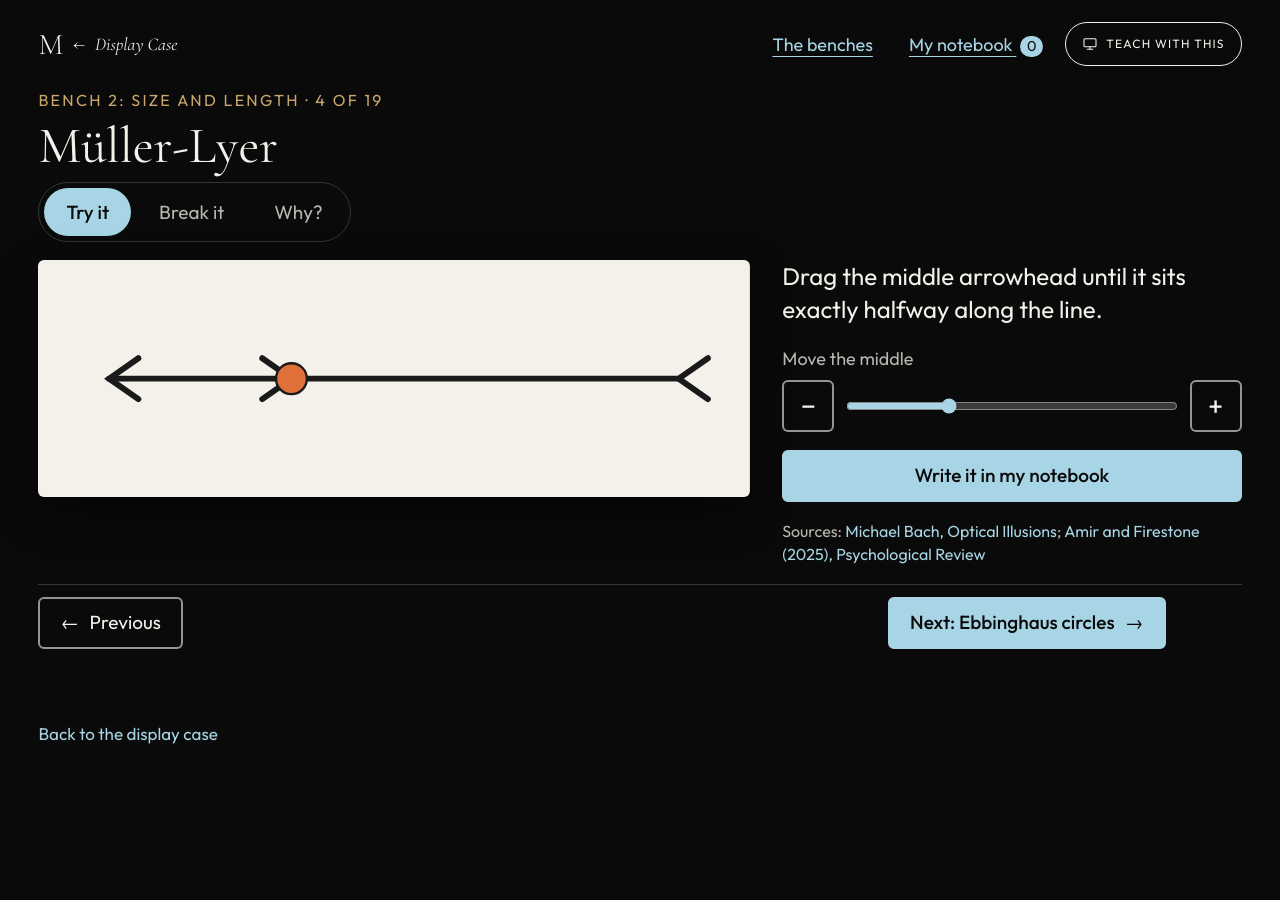
Scenario: a station: Try it, Break it, Why? › records the Müller-Lyer halfway test with fins, then without
Set the slider named "Move the middle" to "410" at (980, 406), box [846, 380, 1178, 432]
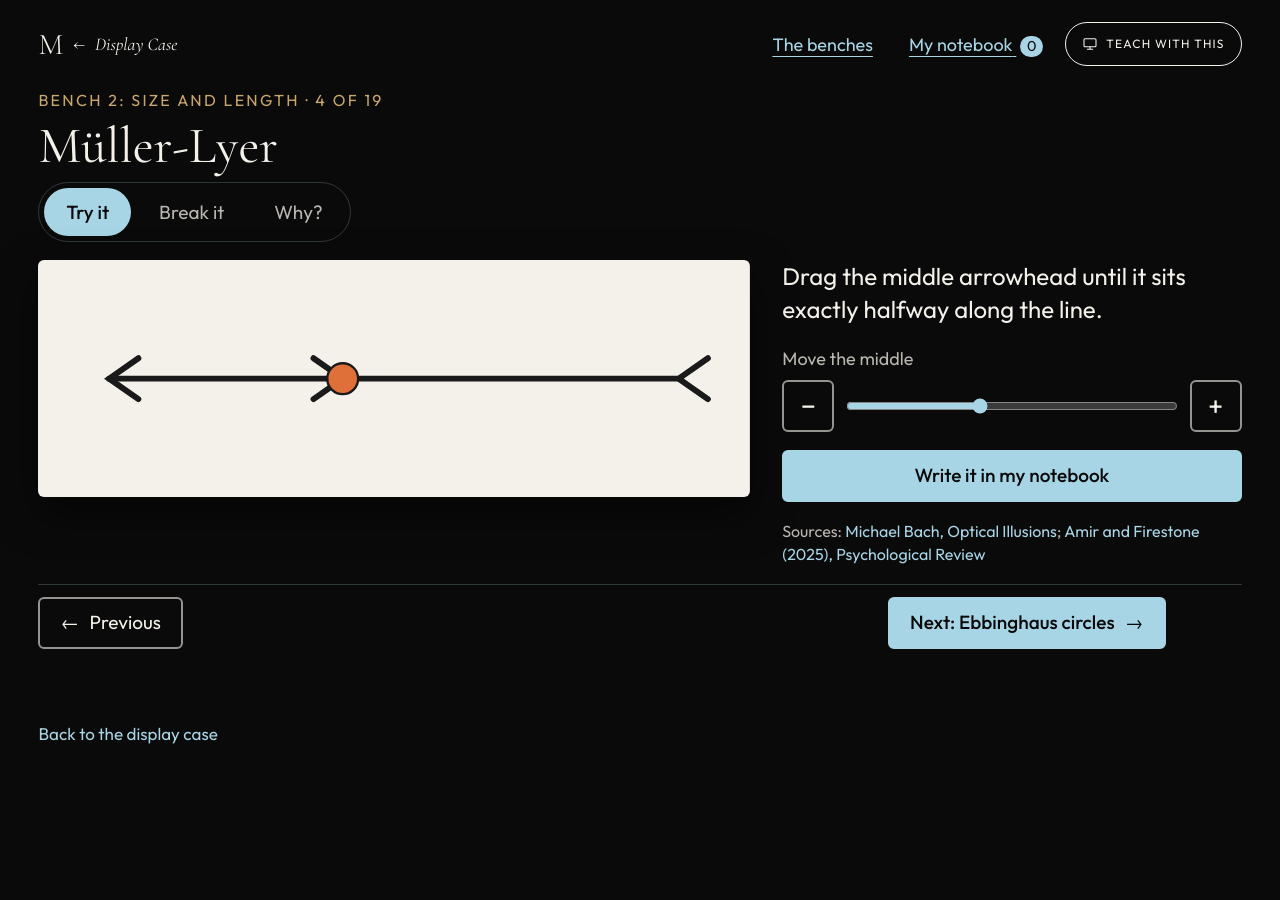
Click the button "Write it in my notebook" at (1012, 476), box [782, 450, 1242, 502]
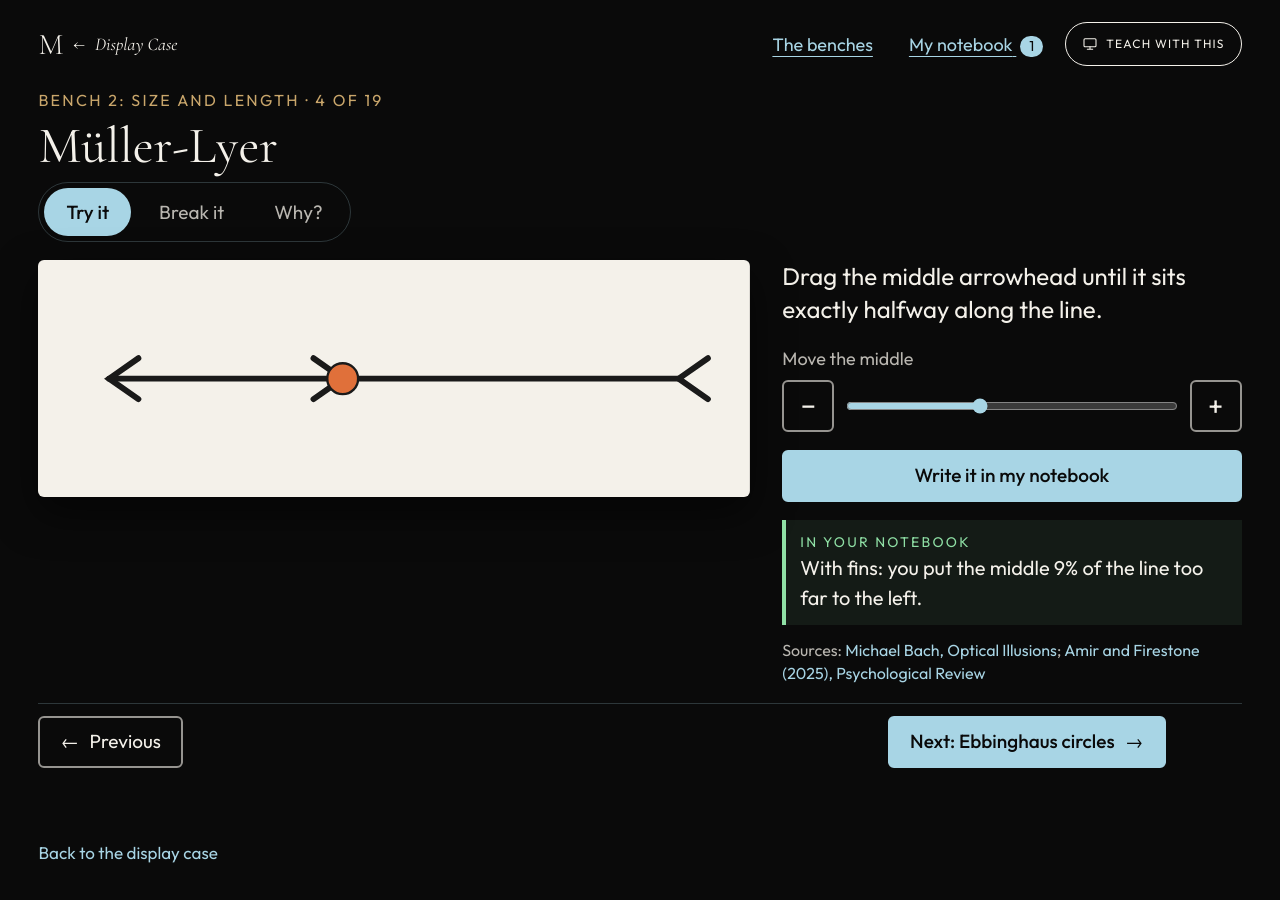
Click the tab "Break it" at (192, 212), box [137, 188, 246, 236]
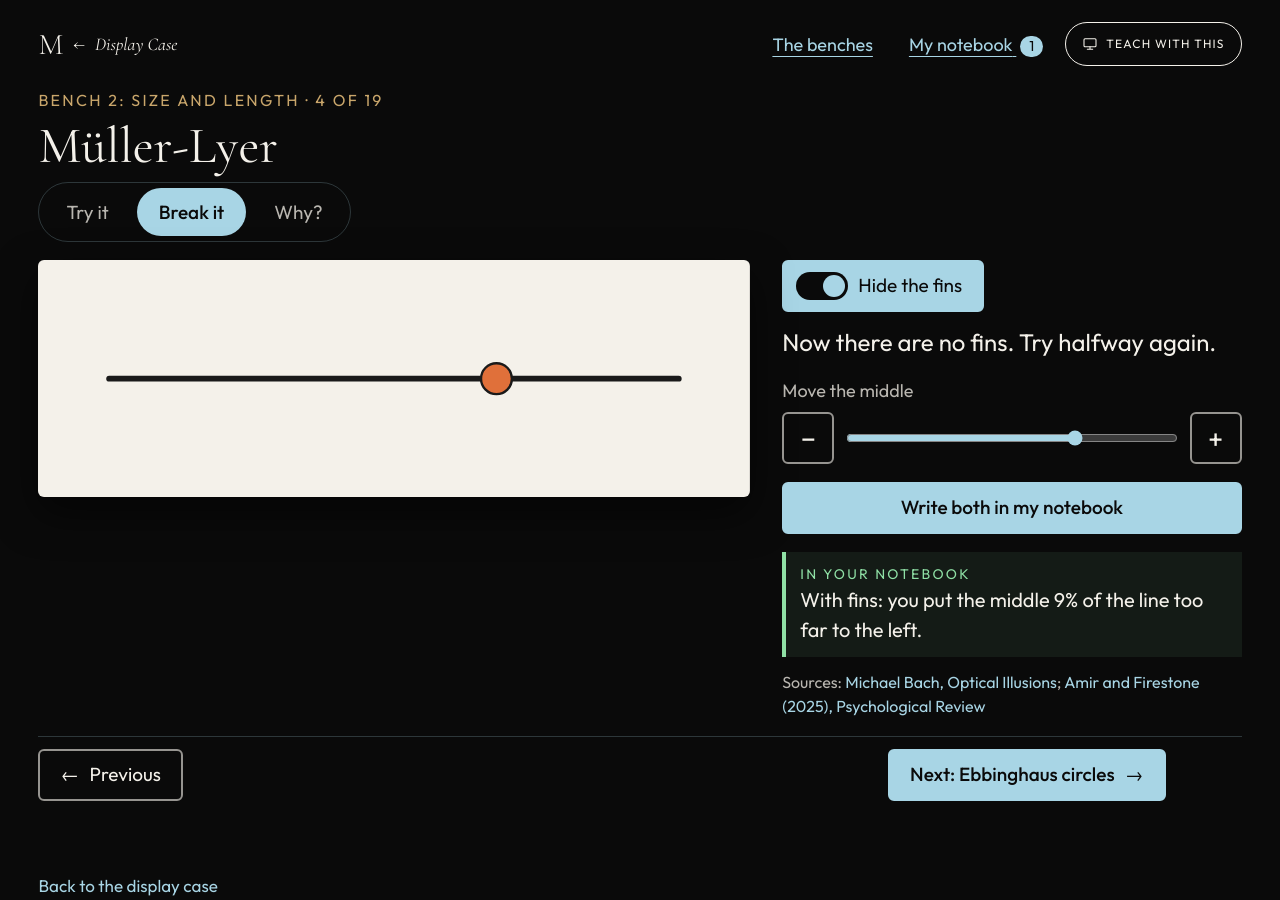
Set the slider named "Move the middle" to "500" at (1012, 438), box [846, 412, 1178, 464]
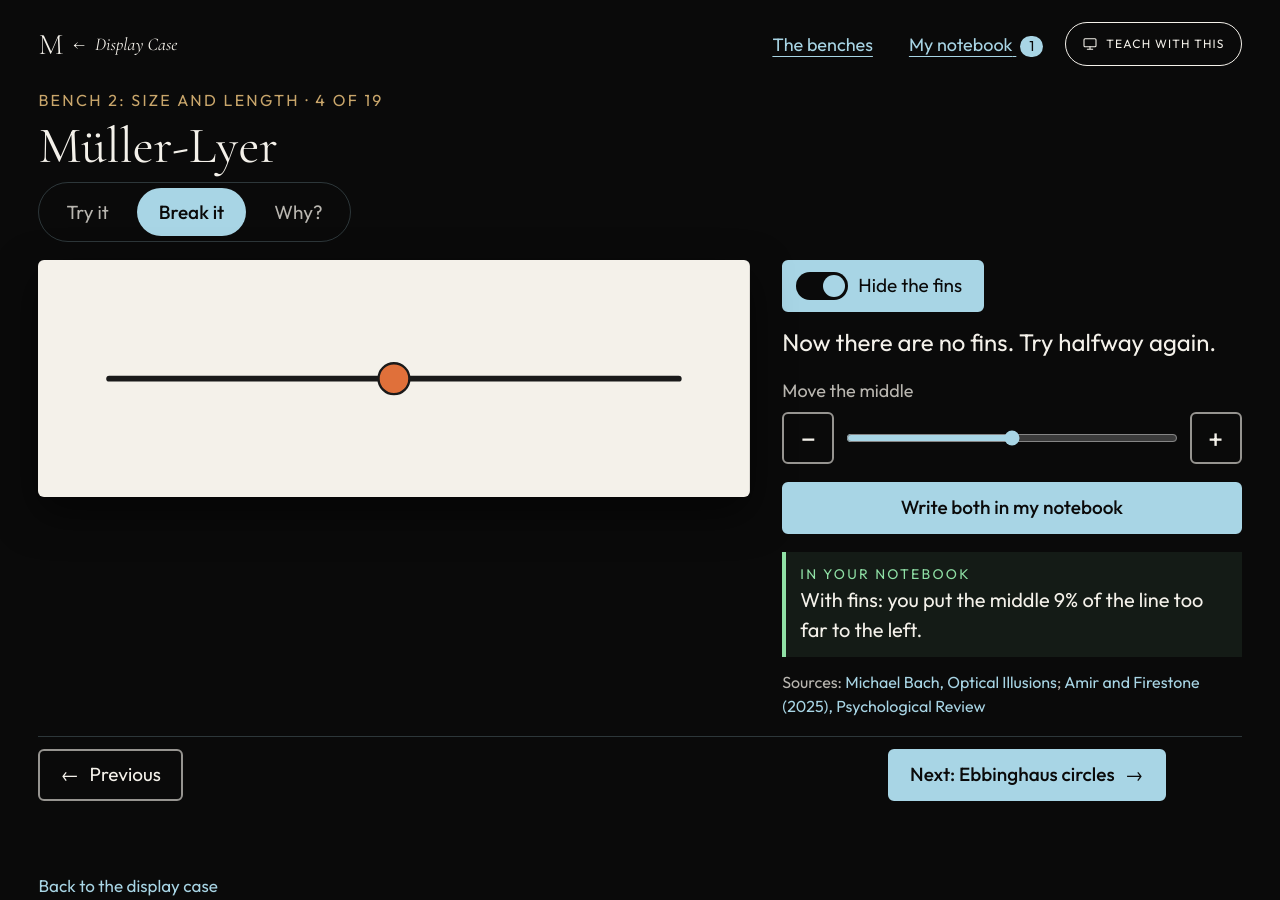
Click the button "Write both in my notebook" at (1012, 508), box [782, 482, 1242, 534]
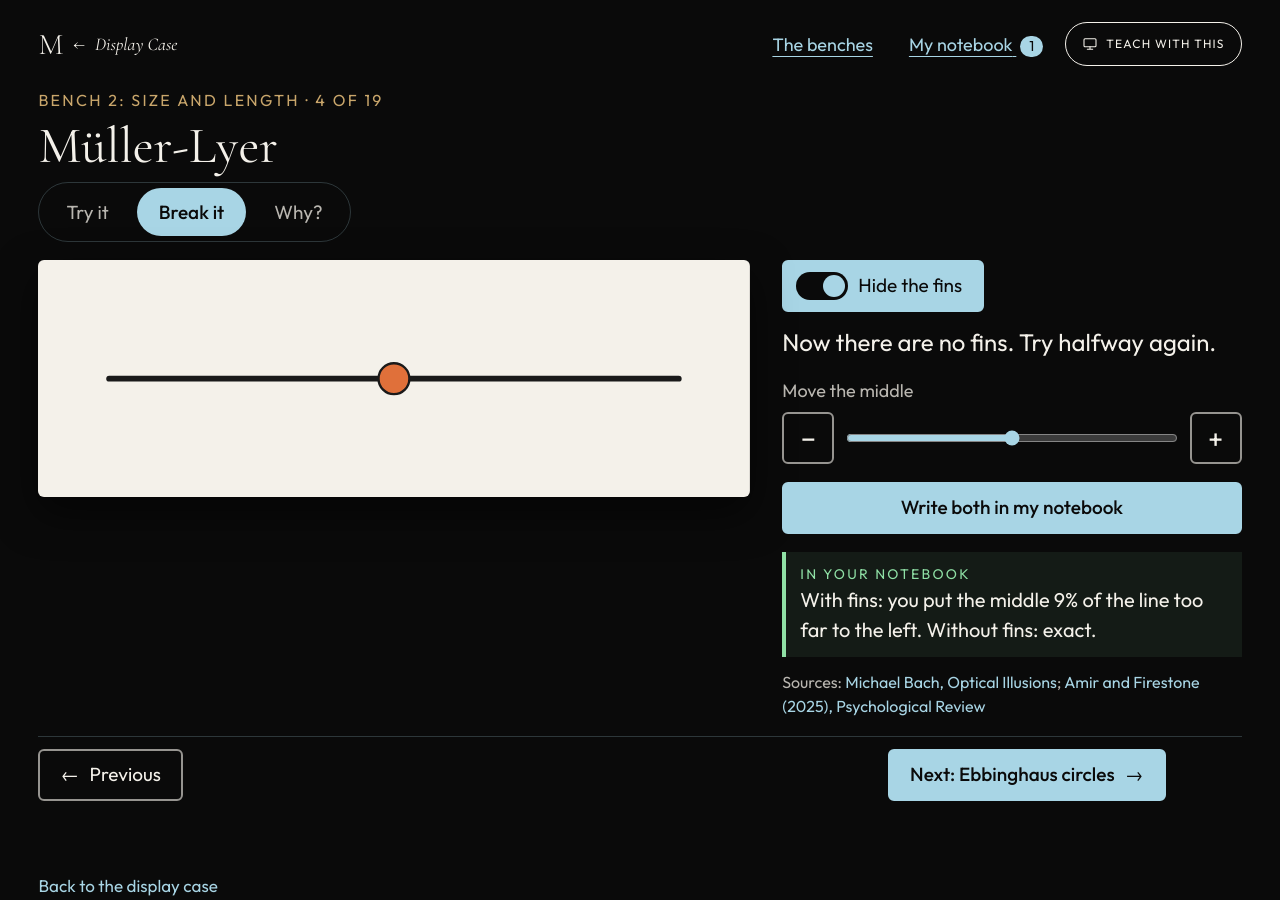
Now the text "With fins: you put the middle 9% of the line too far to the left. Without fins: exact." is shown, box [800, 587, 1203, 642]
